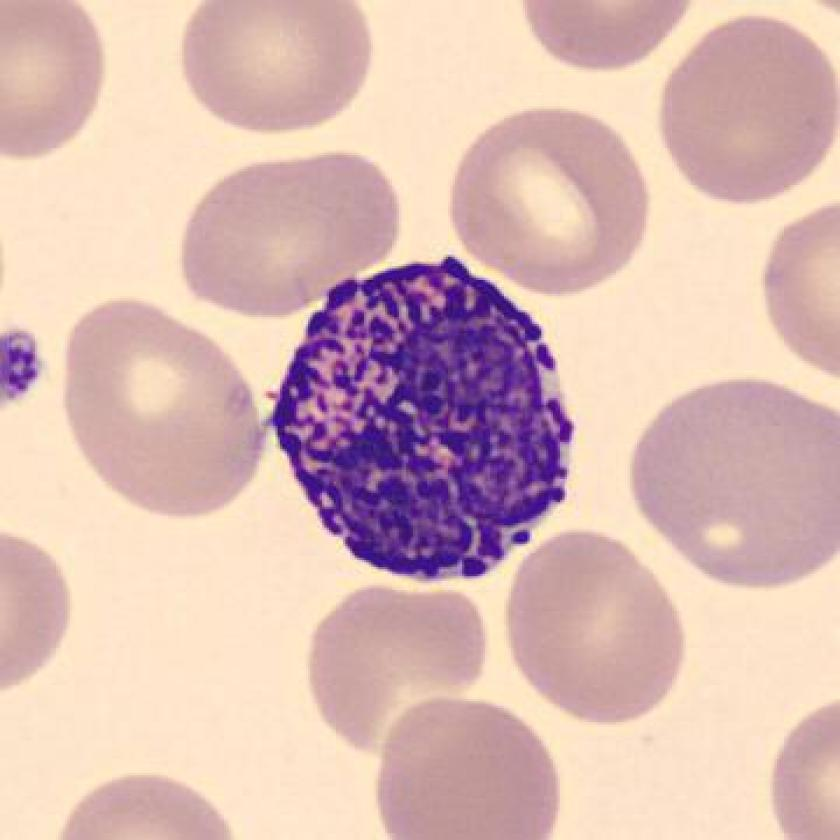basophil: (267, 249, 594, 598)
